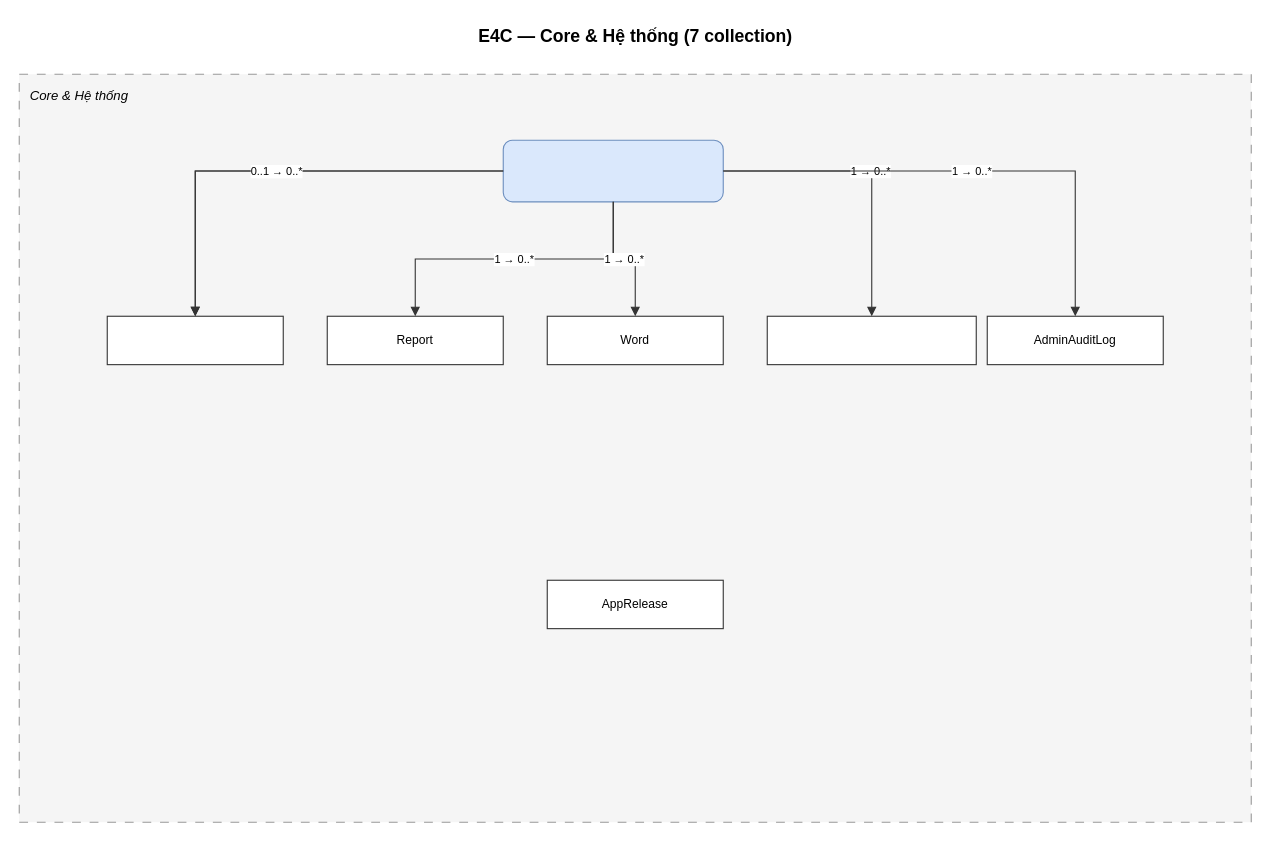
This 1271x842 diagram has some shape labels left out. Here are the shapes that lost their labels. From the top down, the centre of each, then its label:
At point (612, 170): "User user | teacher | admin".
At point (194, 340): "Notification".
At point (871, 340): "UserDailyProgress".
